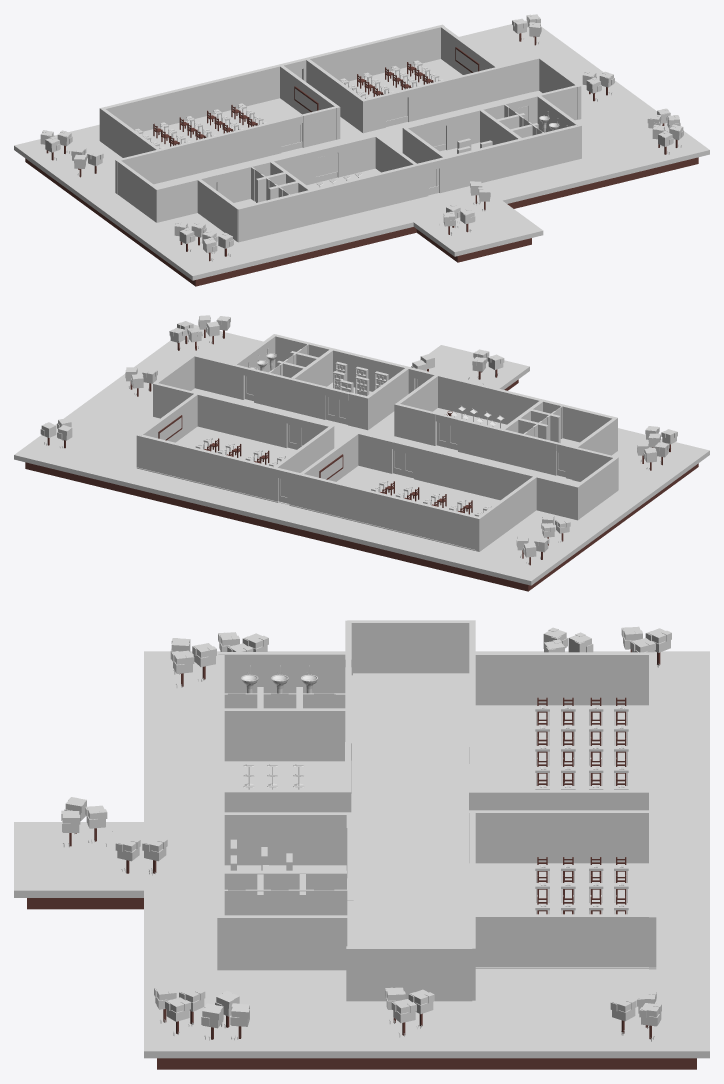
The model's file is middle school environment.fbx.
3 renders of one model, top to bottom at view 1: azimuth 30°, elevation 25°; view 2: azimuth 150°, elevation 25°; view 3: azimuth 270°, elevation 25°, orthographic. The views are drawn at different scales.
Visible parts, largest first — view 1: Cube.015, Cube.051, Plane.014, Cube, Cube.056, Cube.046, Cube.025, Cube.060, Cube.042, Cube.037, Cube.043, Cube.007 (+37 smaller); view 2: Cube.051, Plane.014, Cube.015, Cube.043, Cube.042, Cube.056, Cube.058, Cube.060, Cube.044, Cube.025, Cube.059, Cube.028 (+37 smaller); view 3: Plane.014, Cube.043, Cube.044, Cube, Cube.045, Cube.048, Cube.046, Cube.064, Cube.018, Cube.050, Cube.047, Cube.069 (+31 smaller).
Boxes of the visible parts, <box> form: Cube.015: <box>238,125,580,242</box>; Cube.051: <box>99,24,444,140</box>; Plane.014: <box>140,59,542,206</box>; Cube: <box>413,200,543,262</box>; Cube.056: <box>160,120,281,182</box>; Cube.046: <box>582,123,709,181</box>; Cube.025: <box>145,228,281,286</box>; Cube.060: <box>407,67,498,121</box>; Cube.042: <box>14,125,122,192</box>; Cube.037: <box>244,219,355,268</box>; Cube.043: <box>459,20,582,66</box>; Cube.007: <box>324,201,429,250</box>; Cube.051: <box>136,434,479,551</box>; Plane.014: <box>135,382,579,550</box>; Cube.015: <box>275,335,617,442</box>; Cube.043: <box>14,417,136,486</box>; Cube.042: <box>442,527,582,591</box>; Cube.056: <box>414,446,535,500</box>; Cube.058: <box>458,418,557,475</box>; Cube.060: <box>197,393,288,447</box>; Cube.044: <box>65,386,159,434</box>; Cube.025: <box>612,432,709,497</box>; Cube.059: <box>254,369,326,419</box>; Cube.028: <box>221,493,326,537</box>; Plane.014: <box>224,673,657,968</box>; Cube.043: <box>547,982,709,1069</box>; Cube.044: <box>414,982,576,1069</box>; Cube: <box>14,822,143,909</box>; Cube.045: <box>278,982,440,1069</box>; Cube.048: <box>473,914,653,968</box>; Cube.046: <box>144,982,306,1069</box>; Cube.064: <box>469,810,650,863</box>; Cube.018: <box>473,652,655,705</box>; Cube.050: <box>217,915,347,970</box>; Cube.047: <box>346,946,472,1001</box>; Cube.069: <box>219,708,345,761</box>.
Bounding box in the file's own units: 29481 × 2619 × 21679.
